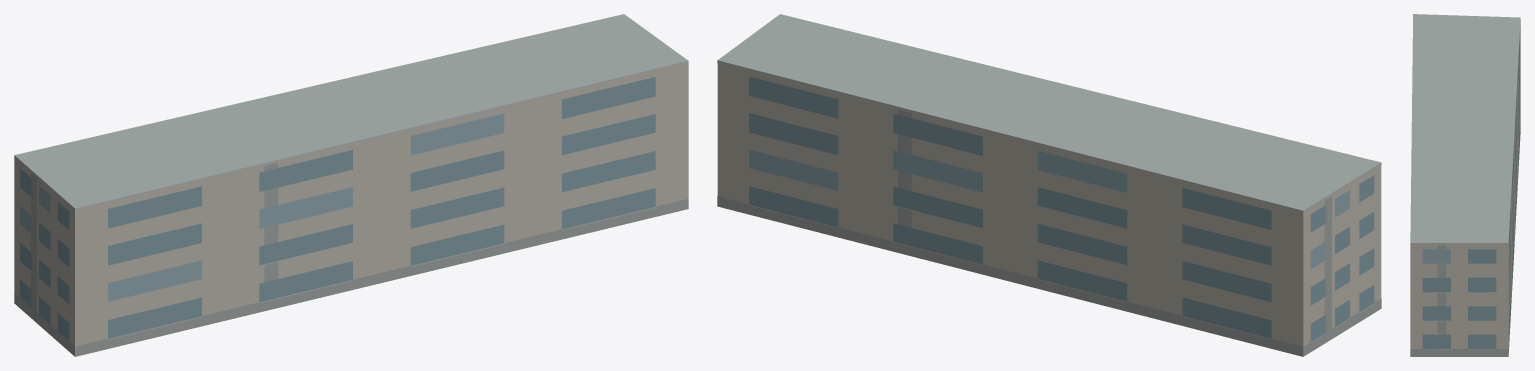
File: residential-2d774614-ab05-4749-af1d-0a8b86201e1a.glb
3 renders of one model, left to right at view 1: azimuth 30°, elevation 25°; view 2: azimuth 150°, elevation 25°; view 3: azimuth 270°, elevation 25°, orthographic. The views are drawn at different scales.
Parts seen in each view (by area): view 1: residential-2d774614-ab05-4749-af1d-0a8b86201e1a.tmp; view 2: residential-2d774614-ab05-4749-af1d-0a8b86201e1a.tmp; view 3: residential-2d774614-ab05-4749-af1d-0a8b86201e1a.tmp.
Boxes of the visible parts, x1,y1,x2,y2 form: residential-2d774614-ab05-4749-af1d-0a8b86201e1a.tmp: (14,14,688,356); residential-2d774614-ab05-4749-af1d-0a8b86201e1a.tmp: (717,14,1381,356); residential-2d774614-ab05-4749-af1d-0a8b86201e1a.tmp: (1410,14,1520,356).
Bounding box in the file's own units: 52.67 × 12.2 × 10.72.
